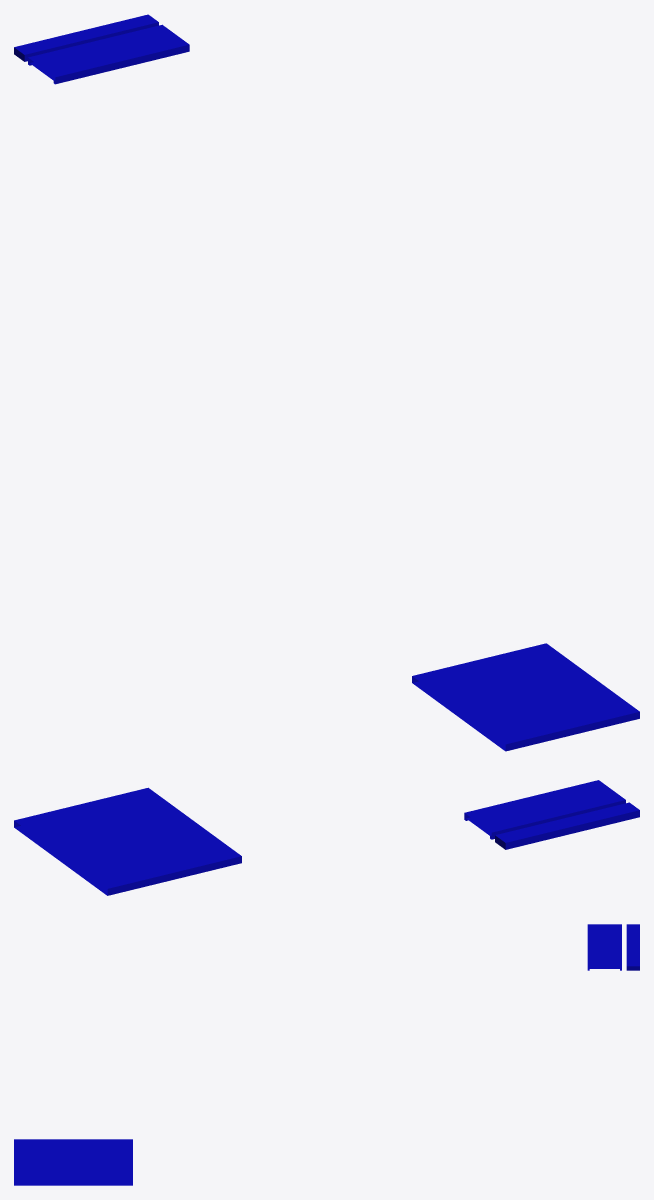
Rendered from Plateform_low.fbx.
The picture shows the model from 3 angles, top to bottom: view 1: azimuth 30°, elevation 25°; view 2: azimuth 210°, elevation 25°; view 3: azimuth 270°, elevation 25°; orthographic projection. The views are drawn at different scales.
Parts seen in each view (by area): view 1: Plateformq_low; view 2: Plateformq_low; view 3: Plateformq_low.
Part boxes in pixels (x1,y1,x2,y2): Plateformq_low: (14, 14, 639, 751); Plateformq_low: (14, 780, 639, 895); Plateformq_low: (14, 924, 639, 1185).
Bounding box in the file's own units: 250 × 612 × 1584.
